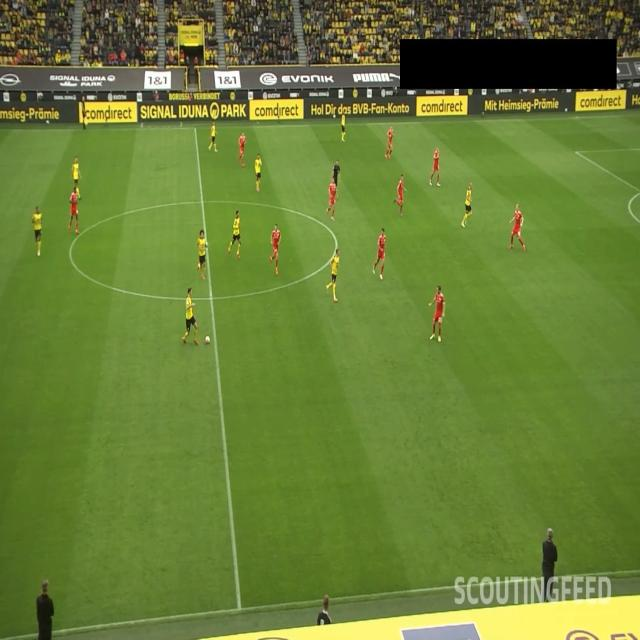ball: (204, 335, 211, 346)
